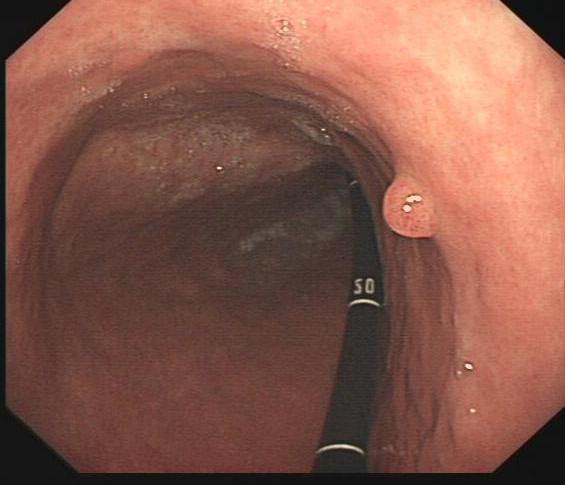Polyp: (379, 169, 442, 244)
